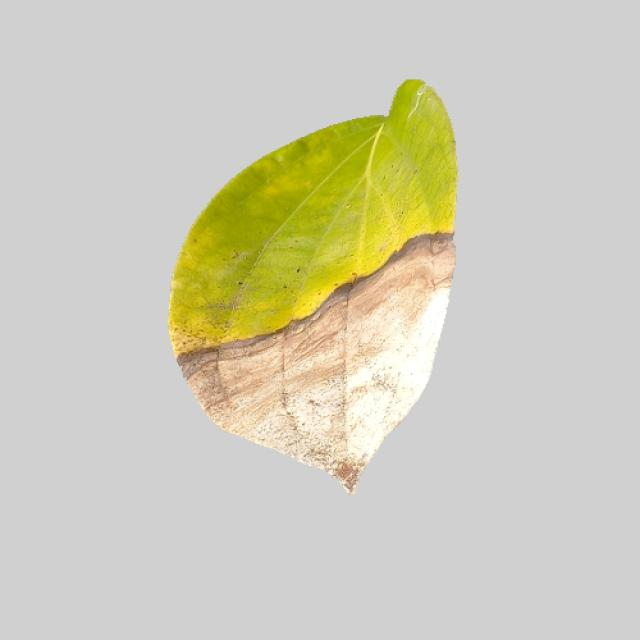leaf-blight: (151, 82, 467, 491)
